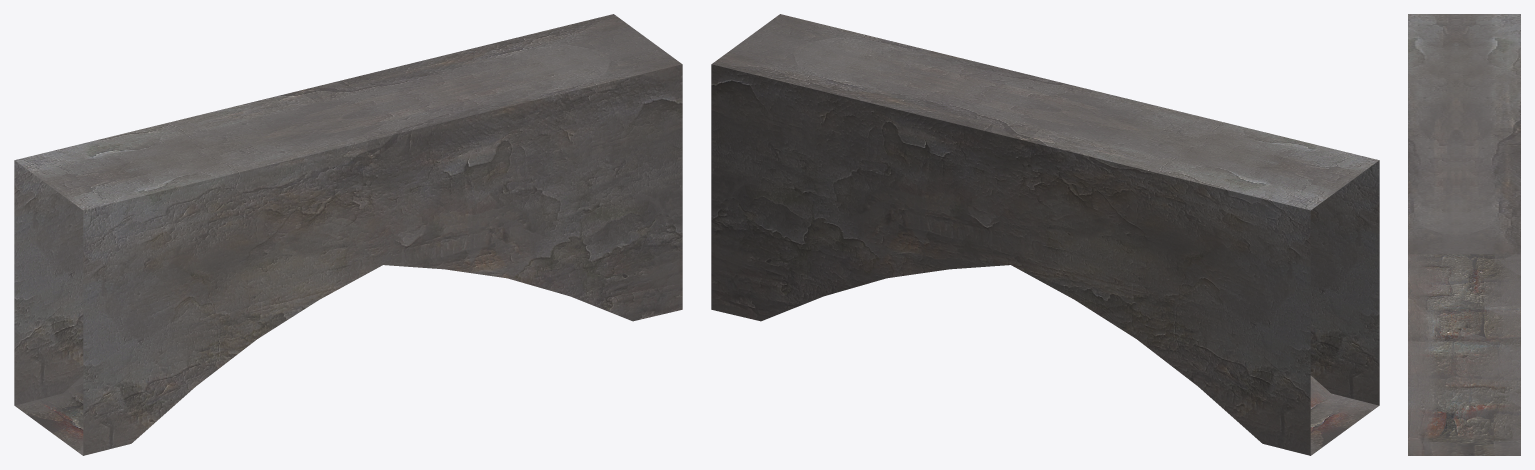
The model's file is Arch_Straight.fbx.
3 views of the same model, side by side, from view 1: azimuth 30°, elevation 25°; view 2: azimuth 150°, elevation 25°; view 3: azimuth 270°, elevation 25° (orthographic). The views are drawn at different scales.
Parts seen in each view (by area): view 1: pCube40; view 2: pCube40; view 3: pCube40.
Boxes of the visible parts, x1,y1,x2,y2 form: pCube40: (14,14,682,455); pCube40: (711,14,1379,455); pCube40: (1408,14,1520,455).
Size of the model in its own units: 252 by 98.57 by 50.
